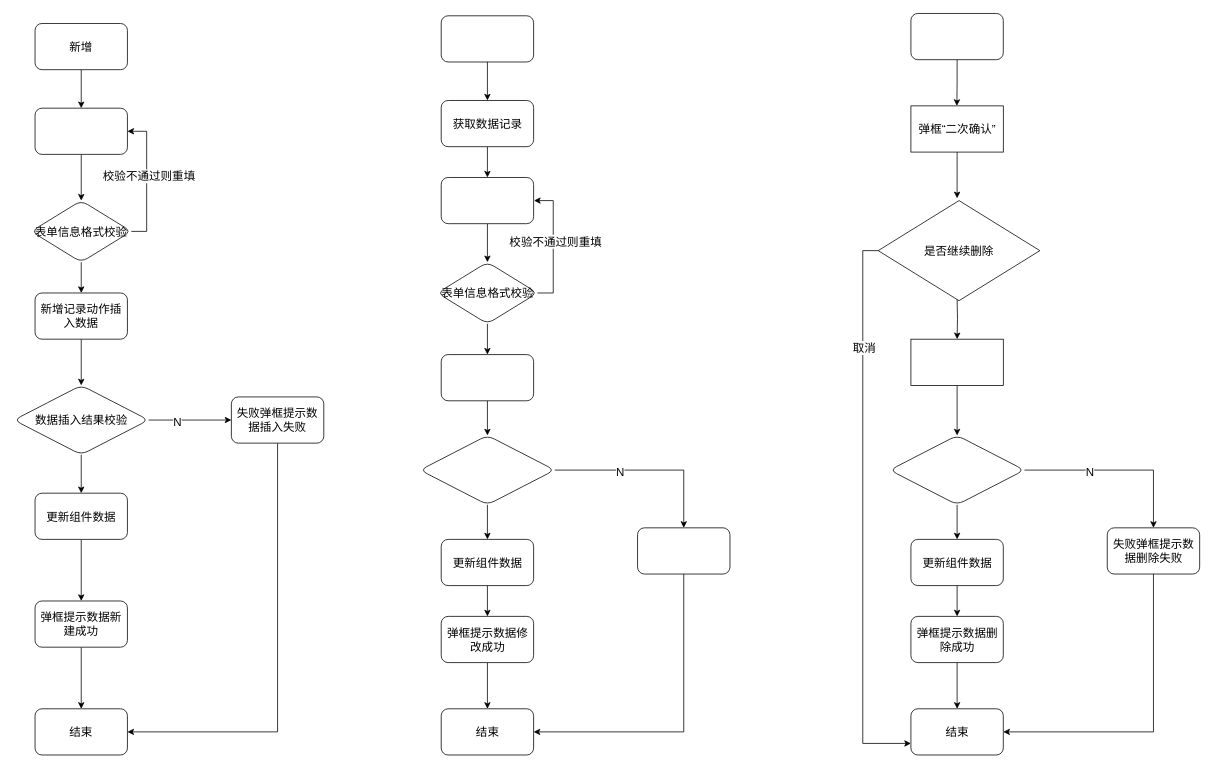
Image size: 1213x768. Some labels were removed from this diagram. Here are the shapes that lost their labels. From the top down, the centre of each, then its label:
(487,38): 编辑
(956,36): 删除
(80,130): 人工填写,填写记录数据
(487,200): 人工填写,记录填充到表单并进行修改
(487,377): 修改记录动作修改数据
(956,361): 删除记录
(487,470): 数据修改结果校验
(956,470): 数据删除结果校验
(683,550): 失败弹框提示数据修改失败
